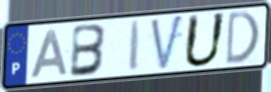A: (28, 27, 70, 80)
B: (68, 22, 109, 79)
D: (224, 9, 262, 68)
I: (127, 18, 144, 74)
U: (181, 11, 229, 70)
V: (149, 12, 186, 73)
